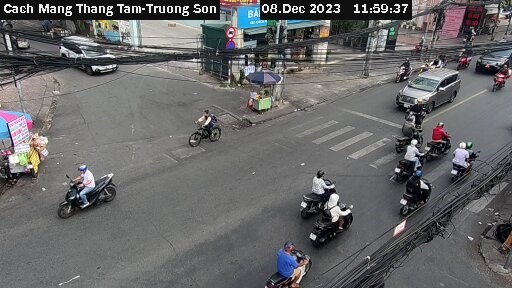car: (392, 62, 463, 112), (60, 34, 114, 73), (475, 31, 512, 71)
motorbike: (47, 169, 134, 223), (240, 239, 323, 288), (296, 198, 365, 240), (392, 174, 441, 215), (287, 173, 343, 205), (441, 135, 483, 177), (395, 111, 429, 155), (395, 147, 436, 181), (426, 120, 452, 154), (487, 64, 512, 91), (387, 59, 412, 78)
